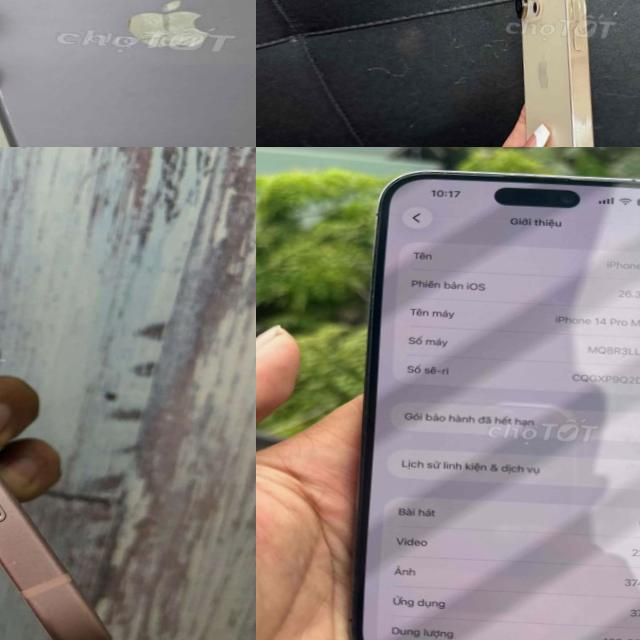gen_11: (0, 0, 256, 147)
gen_14: (346, 157, 640, 640), (488, 0, 639, 147)
gen_15: (0, 147, 164, 640)
